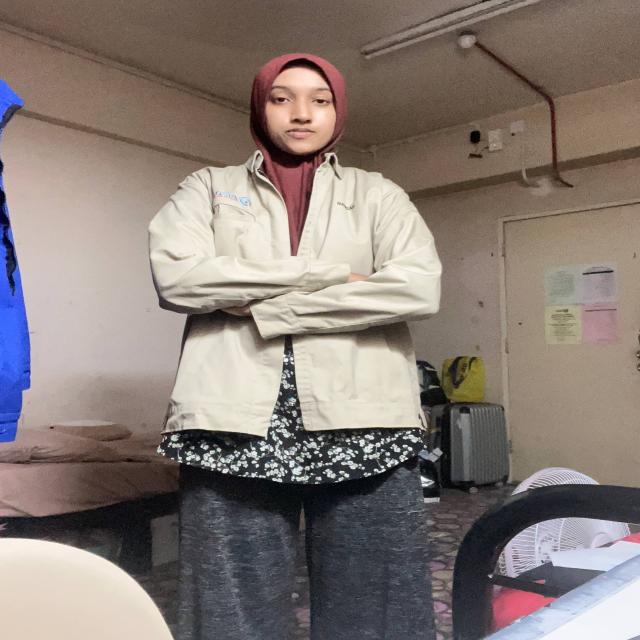person_with_labcoat: (149, 54, 441, 640)
